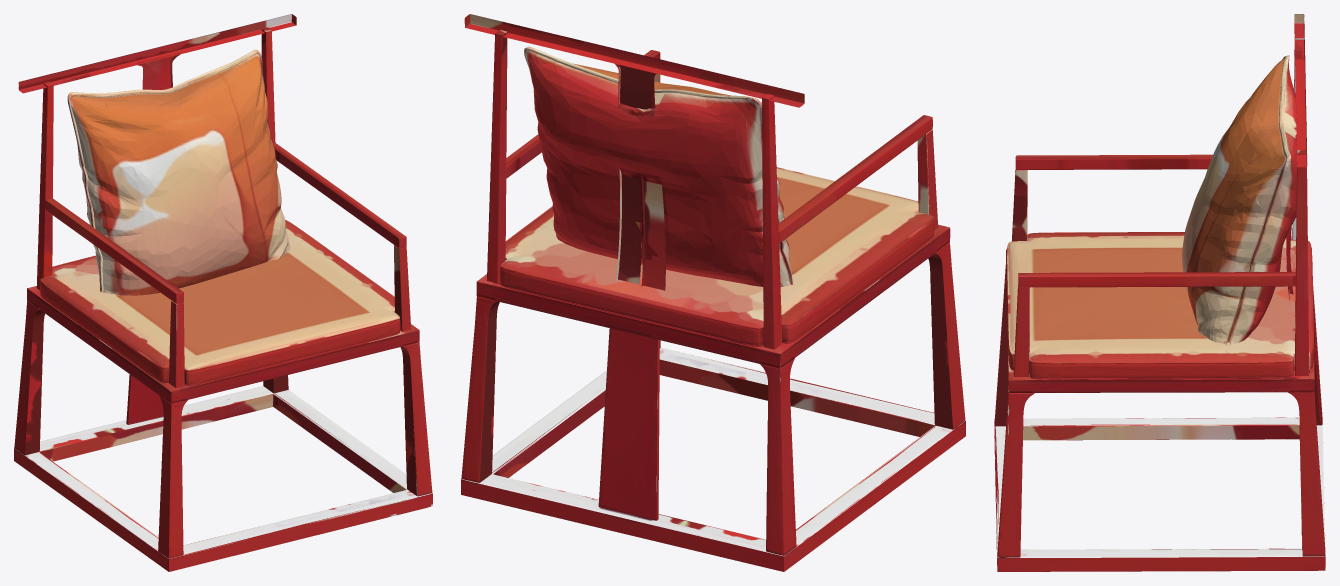
File: edited_mesh.glb
3 views of the same model, side by side, from view 1: azimuth 30°, elevation 25°; view 2: azimuth 150°, elevation 25°; view 3: azimuth 270°, elevation 25° (orthographic). The views are drawn at different scales.
Visible parts, largest first — view 1: solid_001_wire; view 2: solid_001_wire; view 3: solid_001_wire.
Part boxes in pixels (x1,y1,x2,y2): solid_001_wire: (14,14,432,571); solid_001_wire: (461,14,965,571); solid_001_wire: (994,14,1325,571).
Bounding box in the file's own units: 1.08 × 1.46 × 1.05.
1 material, 1 textured.
